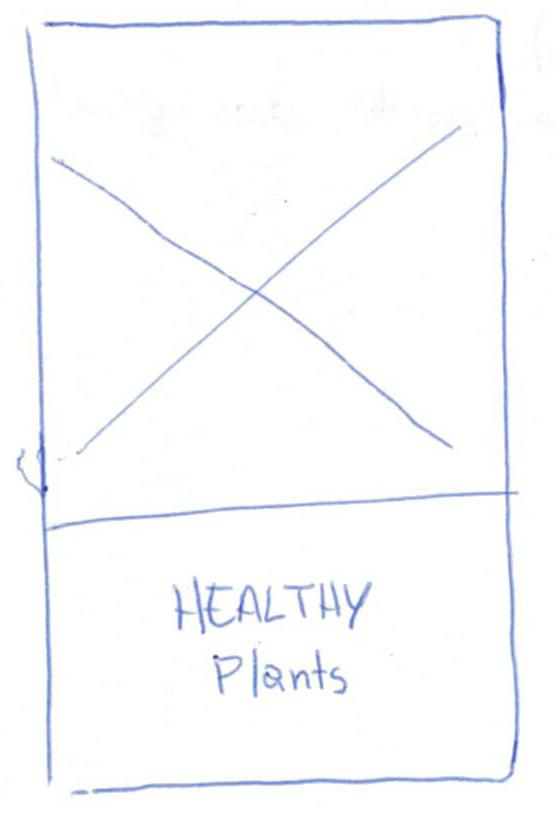Image: (26, 16, 509, 531)
Label: (172, 573, 372, 698)
Screen: (25, 14, 519, 798)
